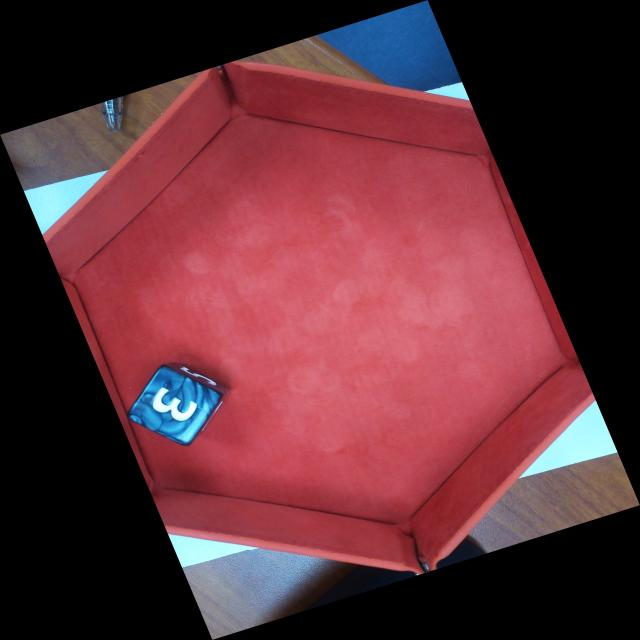dice: (126, 366, 224, 447)
